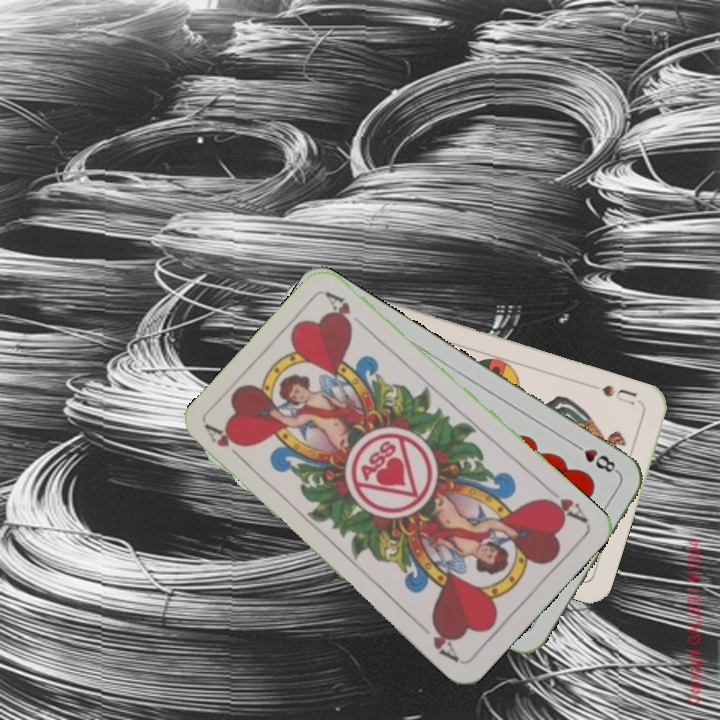H8: (568, 438, 621, 476)
HA: (202, 421, 250, 467), (540, 482, 590, 526)
SU: (586, 380, 639, 408)
